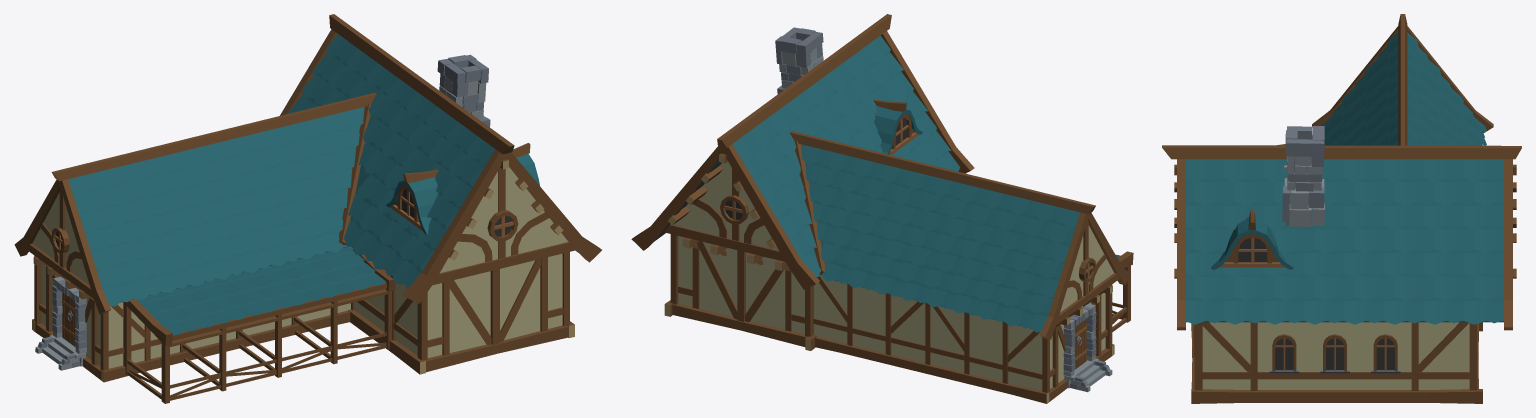
Rendered from Stable.glb.
The picture shows the model from 3 angles, left to right: view 1: azimuth 30°, elevation 25°; view 2: azimuth 150°, elevation 25°; view 3: azimuth 270°, elevation 25°; orthographic projection. The views are drawn at different scales.
Parts seen in each view (by area): view 1: Stable; view 2: Stable; view 3: Stable.
Boxes of the visible parts, left/top/right/bottom form: Stable: left=14, top=14, right=601, bottom=403; Stable: left=631, top=14, right=1133, bottom=403; Stable: left=1162, top=14, right=1521, bottom=403.
Bounding box in the file's own units: 4.7 × 2.49 × 3.33.
